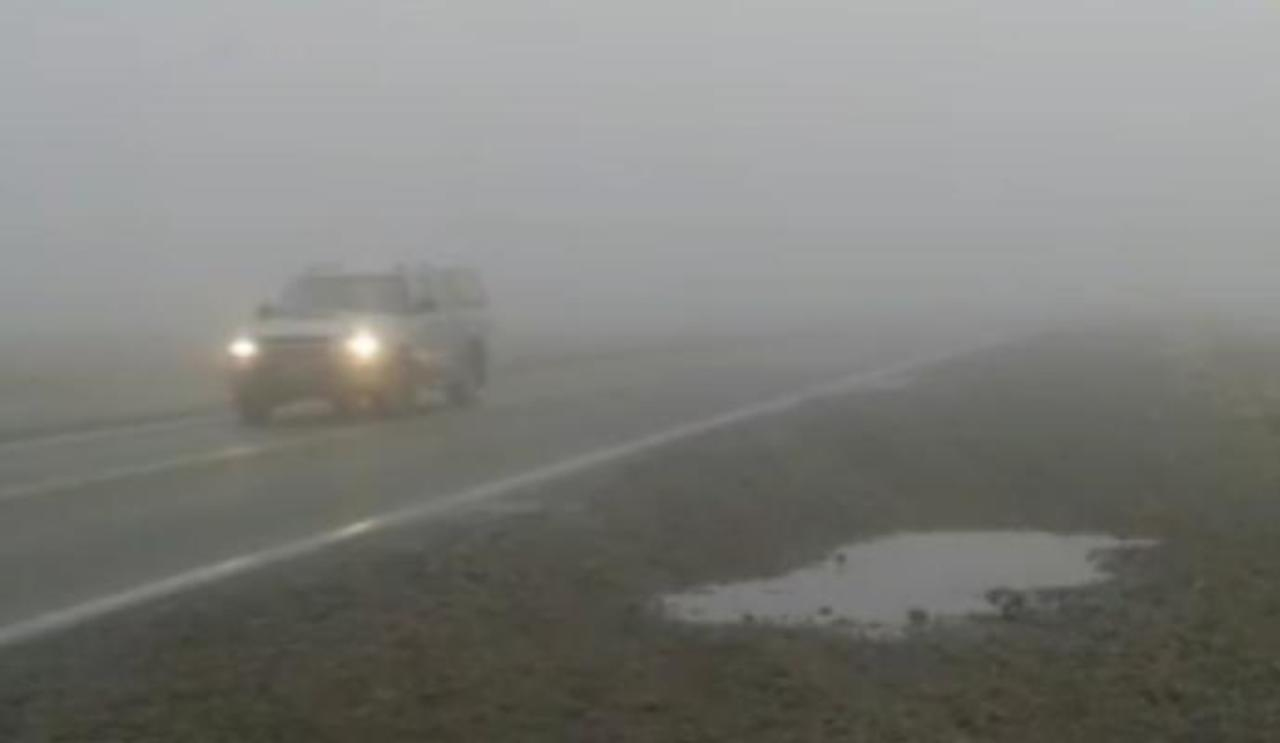car: (215, 263, 487, 421)
